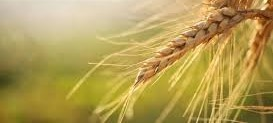Healthy Wheat: (134, 4, 245, 89)
